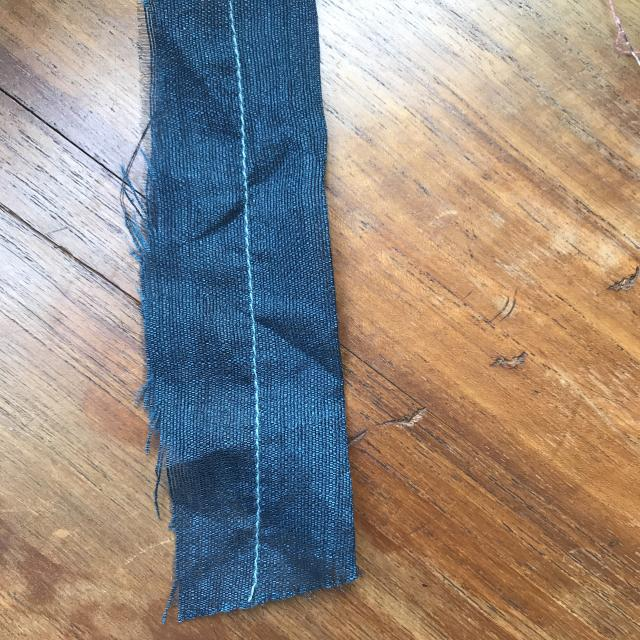good: (224, 240, 279, 442)
